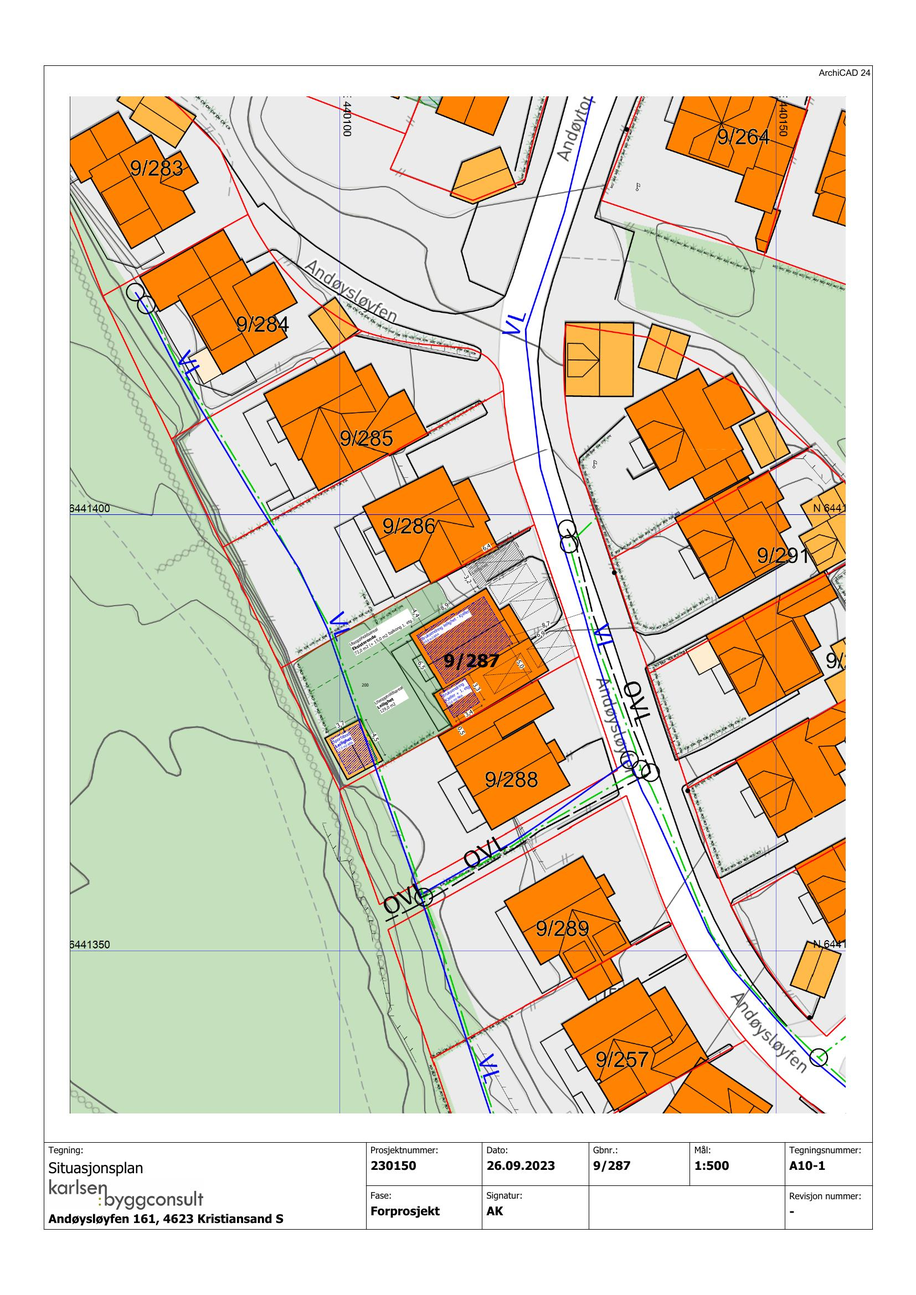situasjonskart: (63, 98, 852, 1118)
tekst: (693, 1158, 734, 1173)
